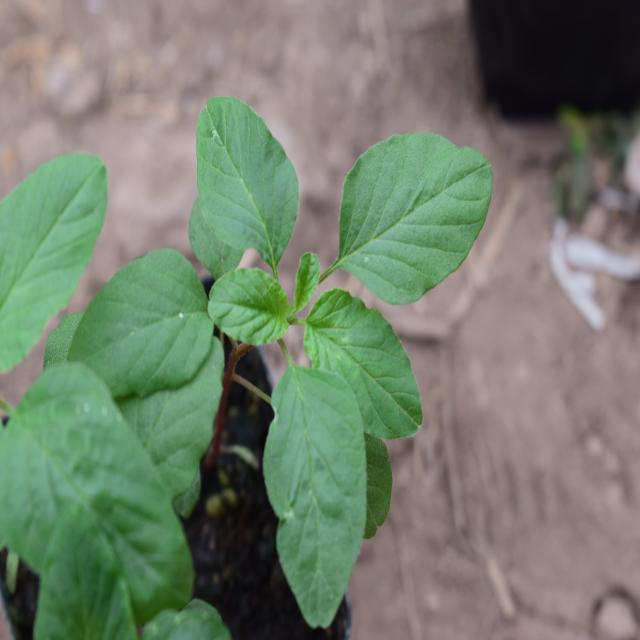pigweed: (180, 100, 494, 623)
